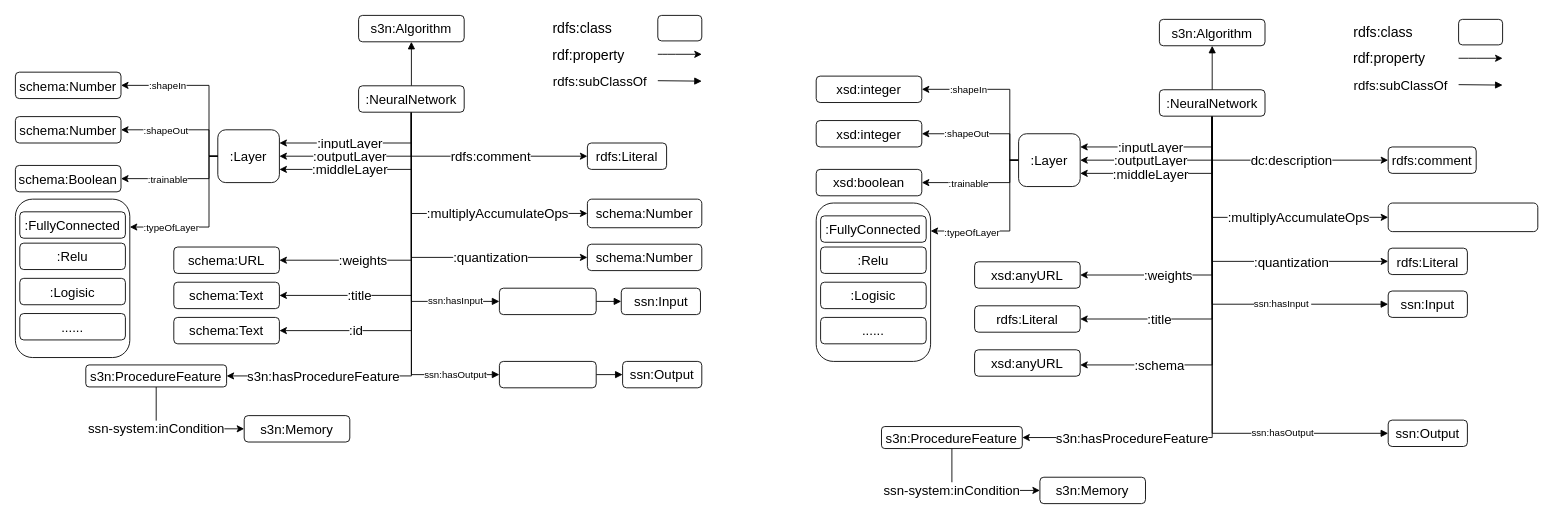
The diagram is 1553 pixels wide and 519 high, and some of its shapes have lost their labels. Each missing label, with the centre of its shape:
":NetworkInput" goes at pixel 547 301.
":NetworkOutput" goes at pixel 547 374.
"xsd:nonNegativeinteger" goes at pixel 1462 217.
